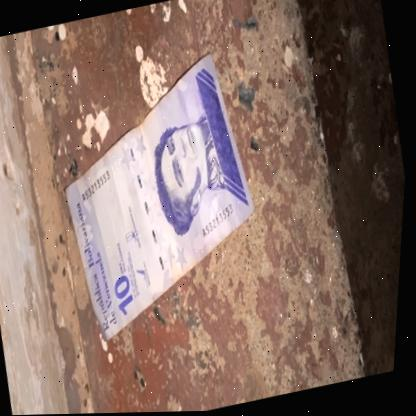vef_front: (38, 49, 284, 348)
